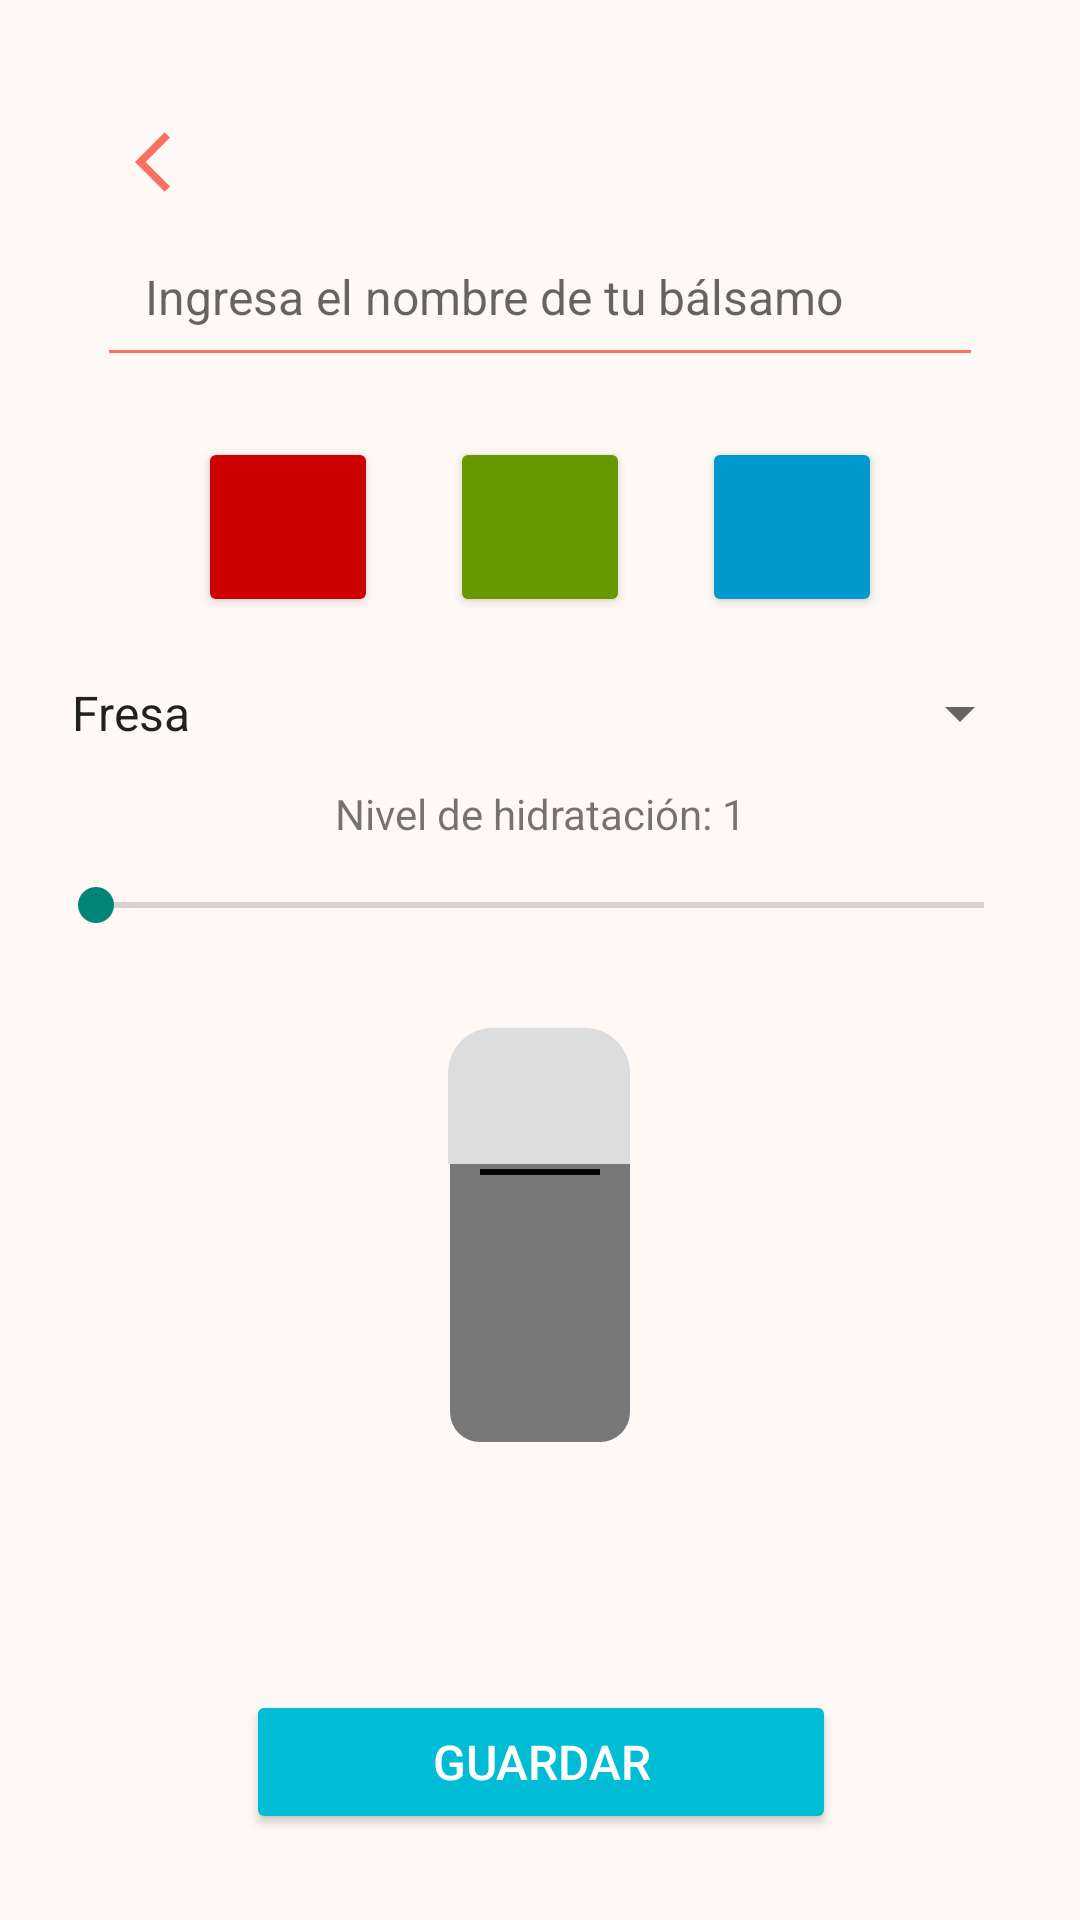

Locate icon controls on the screen. Image size 1080 × 1920, boxes as (x1, y1, x2, y2).
Botón atras: (135, 132, 170, 192)
